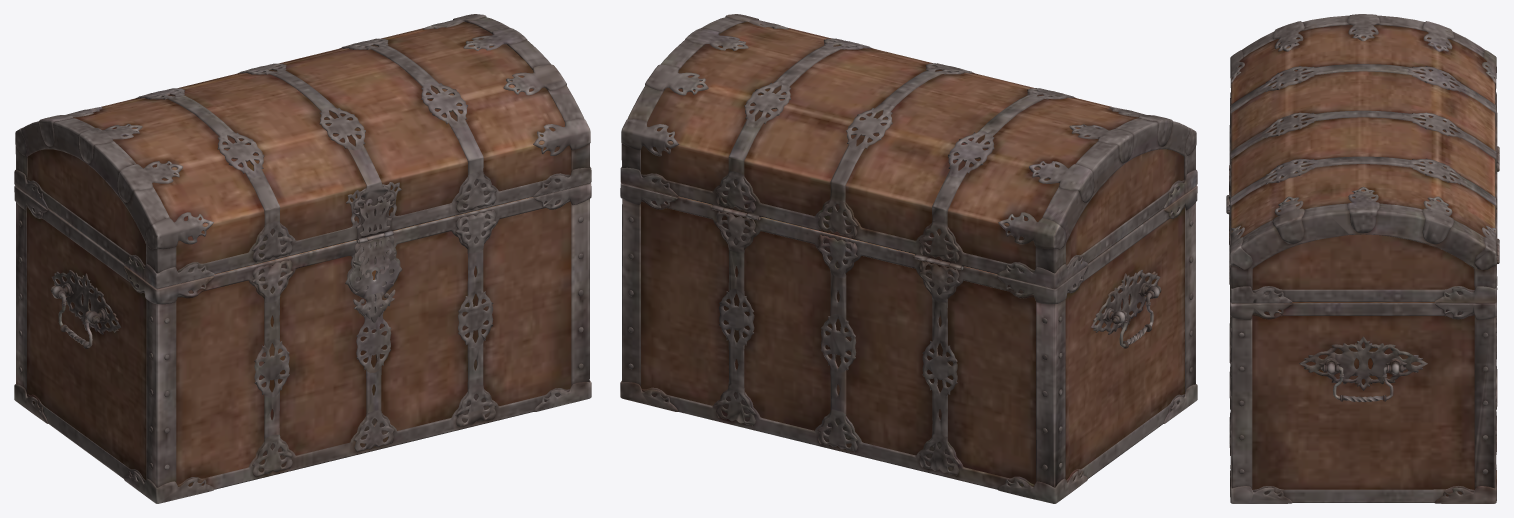
The model's file is treasure_chest.glb.
3 views of the same model, side by side, from view 1: azimuth 30°, elevation 25°; view 2: azimuth 150°, elevation 25°; view 3: azimuth 270°, elevation 25° (orthographic). The views are drawn at different scales.
Parts seen in each view (by area): view 1: treasure_chest_bottom, treasure_chest_lid, treasure_chest_lock; view 2: treasure_chest_bottom, treasure_chest_lid; view 3: treasure_chest_lid, treasure_chest_bottom, treasure_chest_handle_right.
Boxes of the visible parts, x1,y1,x2,y2 form: treasure_chest_bottom: (14, 183, 591, 503); treasure_chest_lid: (14, 14, 591, 288); treasure_chest_lock: (349, 233, 399, 322); treasure_chest_bottom: (620, 183, 1197, 503); treasure_chest_lid: (620, 14, 1197, 288); treasure_chest_lid: (1226, 14, 1499, 303); treasure_chest_bottom: (1229, 121, 1499, 503); treasure_chest_handle_right: (1320, 365, 1406, 402).
Bounding box in the file's own units: 0.959 × 0.619 × 0.5229.
Materials: 1 (1 with a texture image).
